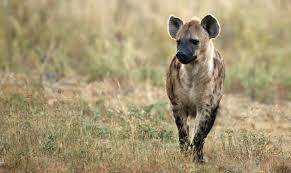hyenas: (161, 4, 224, 173)
